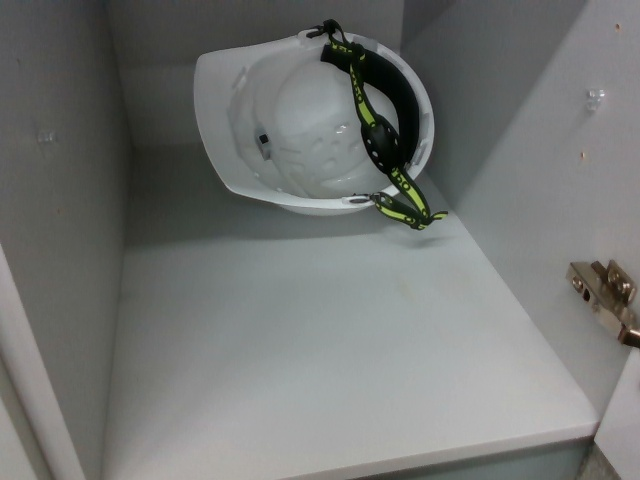helmet: (180, 29, 439, 219)
